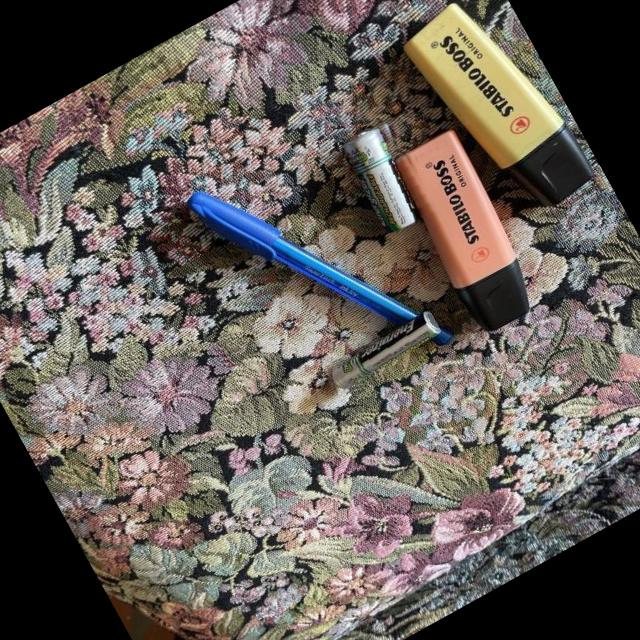Hazard: (334, 111, 442, 242), (322, 308, 447, 402)
